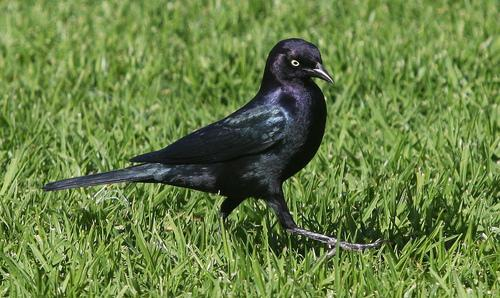009.Brewer_Blackbird: (43, 38, 374, 261)
